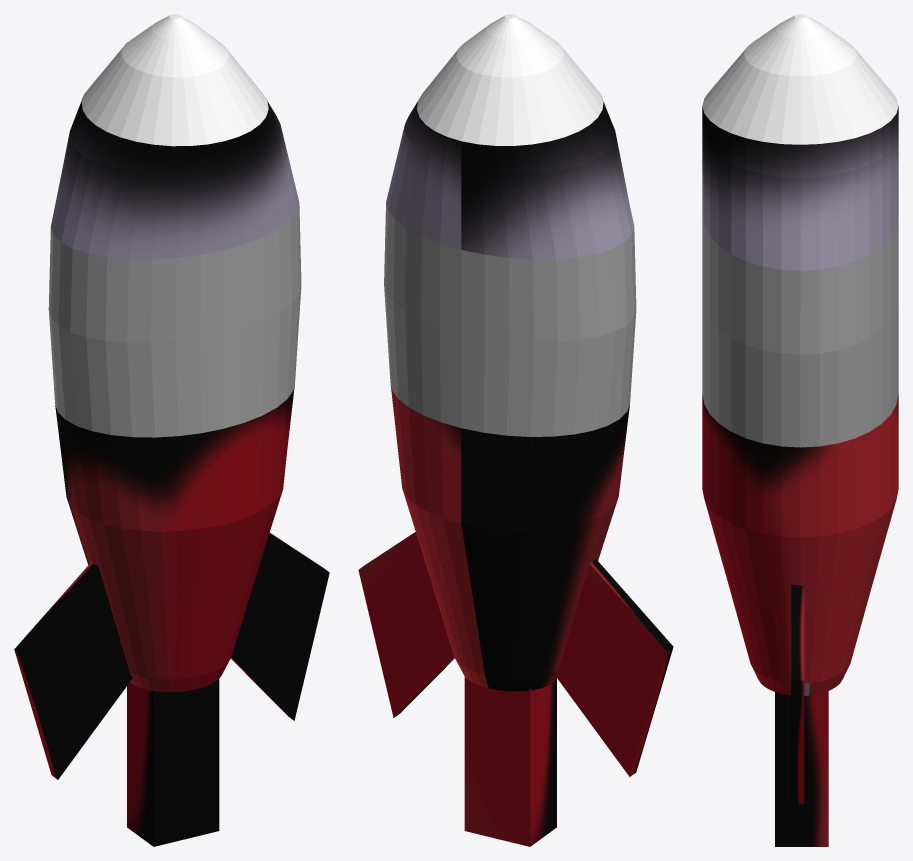
Rendered from Bomb.fbx.
3 renders of one model, left to right at view 1: azimuth 30°, elevation 25°; view 2: azimuth 150°, elevation 25°; view 3: azimuth 270°, elevation 25°, orthographic.
Parts seen in each view (by area): view 1: Cylinder; view 2: Cylinder; view 3: Cylinder.
Boxes of the visible parts, x1,y1,x2,y2 form: Cylinder: [14, 14, 329, 846]; Cylinder: [358, 14, 673, 846]; Cylinder: [702, 14, 898, 846].
Size of the model in its own units: 169 by 424 by 92.5.
